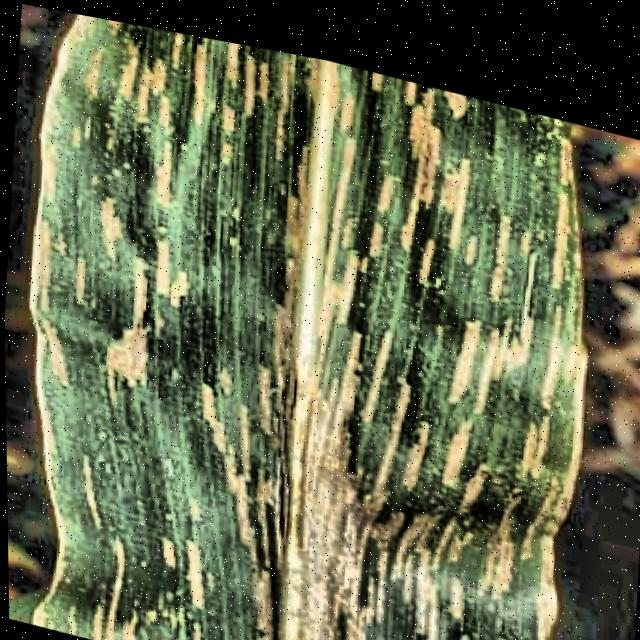gray_spot: (0, 0, 592, 640)
